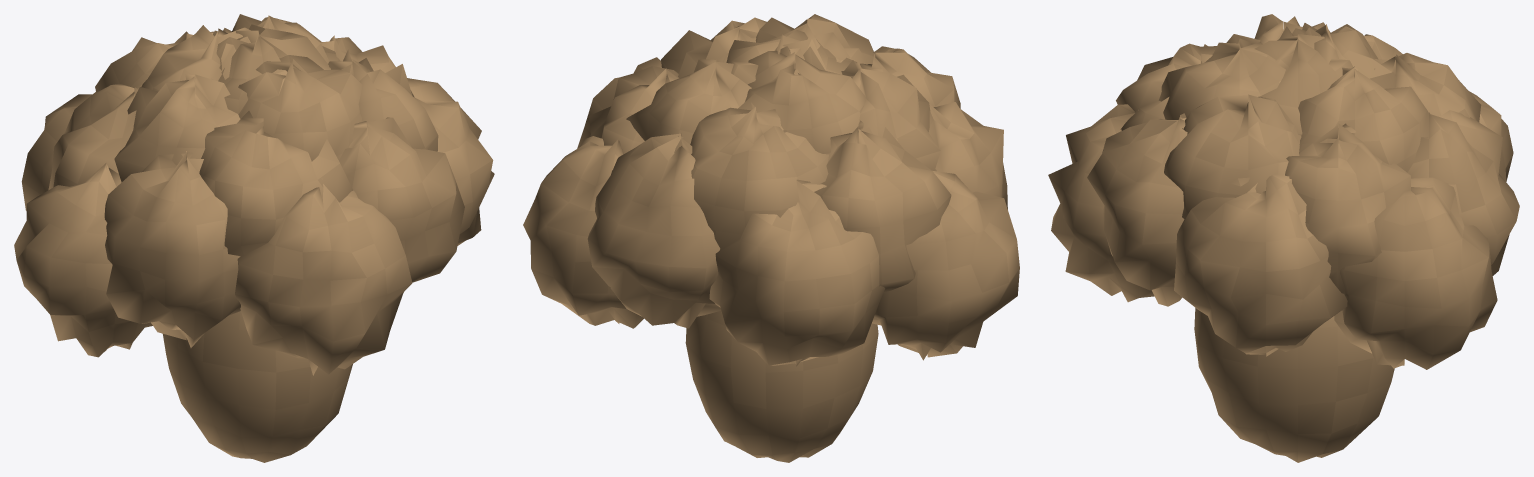
File: Ginger.glb
The picture shows the model from 3 angles, left to right: view 1: azimuth 30°, elevation 25°; view 2: azimuth 150°, elevation 25°; view 3: azimuth 270°, elevation 25°; orthographic projection.
Parts seen in each view (by area): view 1: Ginger; view 2: Ginger; view 3: Ginger.
Part boxes in pixels (box(x1,y1,x2,y2)): Ginger: box(14, 14, 494, 462); Ginger: box(523, 14, 1019, 462); Ginger: box(1048, 14, 1519, 462).
Size of what is drawn, in the model's own units: 0.1 by 0.0929 by 0.0941.
